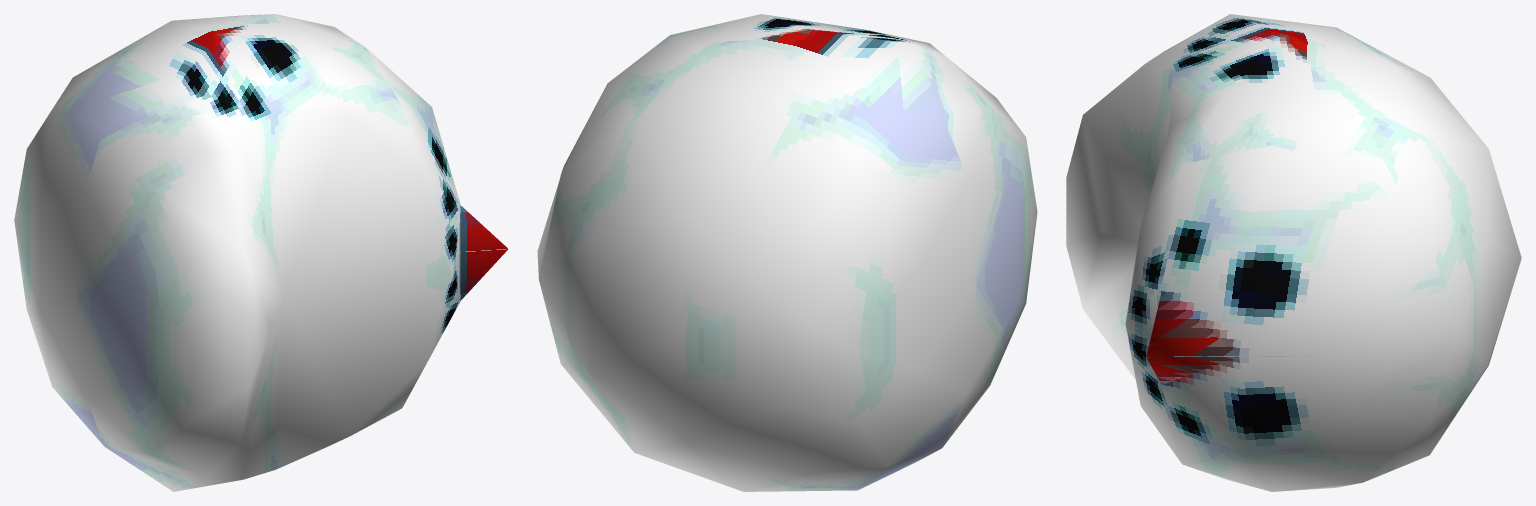
File: hlmt_snowball.dae
3 views of the same model, side by side, from view 1: azimuth 30°, elevation 25°; view 2: azimuth 150°, elevation 25°; view 3: azimuth 270°, elevation 25° (orthographic). The views are drawn at different scales.
Visible parts, largest first — view 1: hlmt_snowball; view 2: hlmt_snowball; view 3: hlmt_snowball.
Part boxes in pixels (bbox=[...]): hlmt_snowball: bbox=[14, 14, 508, 491]; hlmt_snowball: bbox=[537, 14, 1037, 491]; hlmt_snowball: bbox=[1066, 14, 1521, 491].
Bounding box in the file's own units: 24.43 × 27.36 × 26.13.
1 material, 1 textured.
